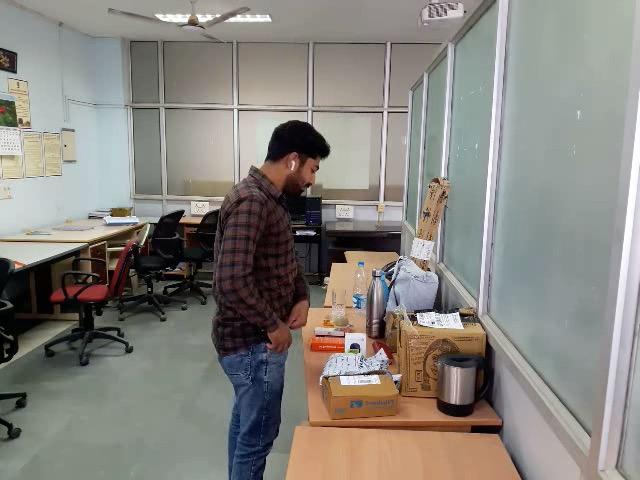Normal: (8, 7, 465, 476)
shoplifting: (176, 280, 381, 419)
